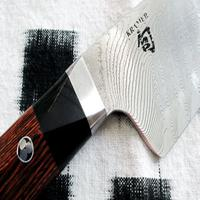knife: (3, 1, 200, 189)
